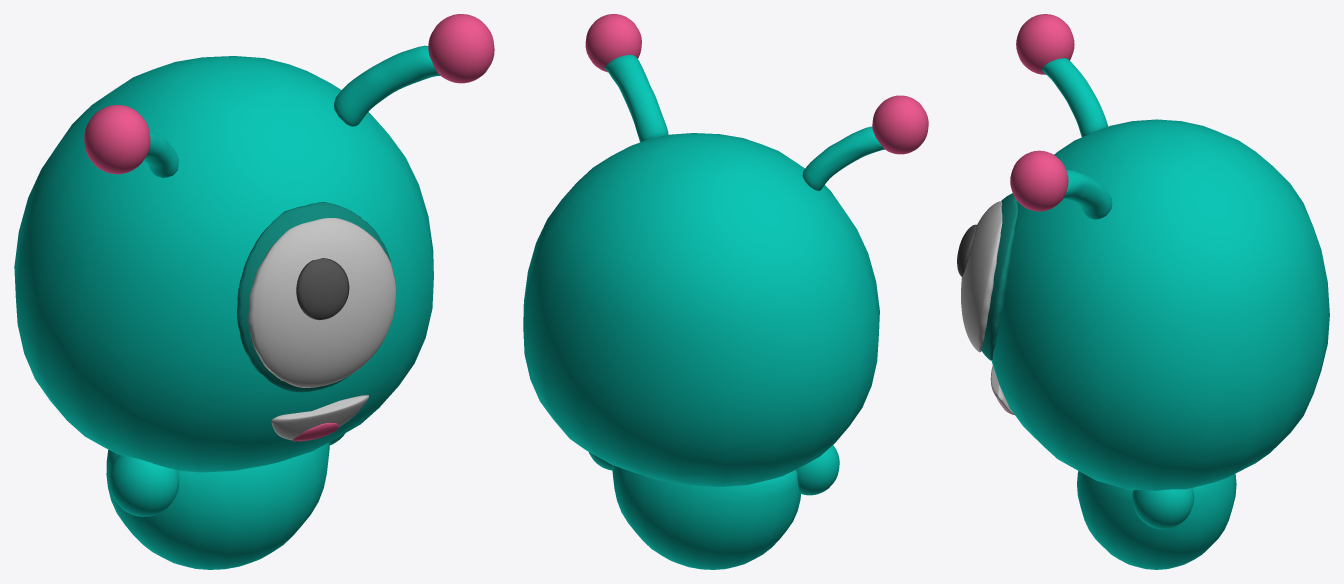
File: jack.fbx
3 views of the same model, side by side, from view 1: azimuth 30°, elevation 25°; view 2: azimuth 150°, elevation 25°; view 3: azimuth 270°, elevation 25° (orthographic). The views are drawn at different scales.
Parts seen in each view (by area): view 1: Head, pSphere19, Body, pSphere17, pCylinder8, pSphere16, pSphere3, Left_hand, pSphere20, pSphere21, pCylinder1; view 2: Head, Body, pCylinder8, pSphere16, pSphere3, pCylinder1, Left_hand; view 3: Head, Body, pSphere19, pSphere3, pSphere16, pCylinder1, pSphere17, Right_hand, pCylinder8, pSphere20.
Part boxes in pixels (x1,y1,x2,y2): Head: (14,56,433,472); pSphere19: (248,218,396,387); Body: (106,442,329,569); pSphere17: (237,202,390,392); pCylinder8: (334,45,440,126); pSphere16: (84,105,150,174); pSphere3: (428,14,494,83); Left_hand: (109,454,179,516); pSphere20: (296,258,349,320); pSphere21: (271,395,368,440); pCylinder1: (143,131,178,177); Head: (523,133,879,486); Body: (612,465,800,569); pCylinder8: (604,54,668,142); pSphere16: (872,95,928,154); pSphere3: (585,14,641,72); pCylinder1: (802,126,884,190); Left_hand: (796,445,839,495); Head: (991,119,1329,490); Body: (1077,471,1236,569); pSphere19: (961,201,1002,352); pSphere3: (1010,150,1068,211); pSphere16: (1016,14,1074,74); pCylinder1: (1042,58,1107,136); pSphere17: (981,193,1018,360); Right_hand: (1132,488,1194,529); pCylinder8: (1063,169,1112,219); pSphere20: (957,224,976,276).
Bounding box in the file's own units: 3.27 × 4.32 × 3.02.
